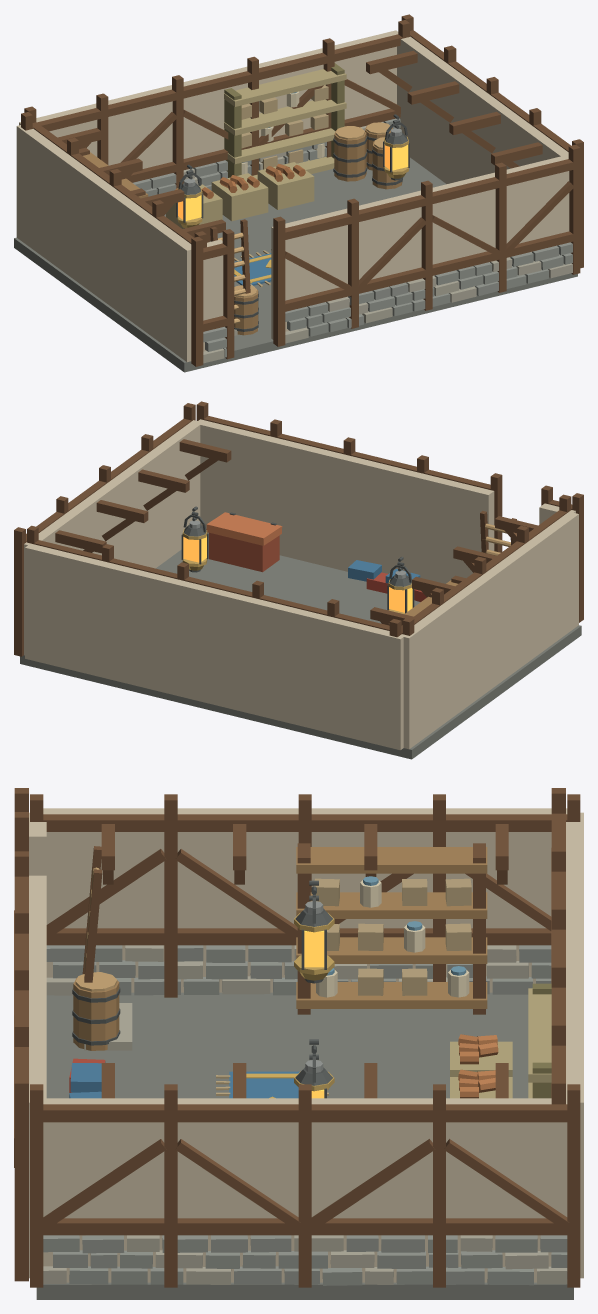
Rendered from holm_survival_workyard_cellar_v1.glb.
3 renders of one model, top to bottom at view 1: azimuth 30°, elevation 25°; view 2: azimuth 150°, elevation 25°; view 3: azimuth 270°, elevation 25°, orthographic. The views are drawn at different scales.
Visible parts, largest first — view 1: CellarStatic_Workyard_Warm_Limewash, CellarStatic_Workyard_Oak_Dark, CellarStatic_Cellar_Flagstone, CellarFurnishing_Workyard_Willow, CellarStatic_Workyard_Fieldstone, CellarFurnishing_Workyard_Oak_Worn, CellarStatic_Workyard_Fieldstone_Light, CellarFurnishing_Workyard_Forged_Iron, CellarFurnishing_Workyard_Willow_Dark, CellarFurnishing_Workyard_Sackcloth, CellarFurnishing_Cellar_Lantern_Amber_Glass, CellarFurnishing_Cellar_Root_Vegetables (+5 smaller); view 2: CellarStatic_Workyard_Warm_Limewash, CellarStatic_Workyard_Oak_Dark, CellarStatic_Cellar_Flagstone, CellarChest_Workyard_Mahogany, CellarChest_Workyard_Mahogany_Light, CellarFurnishing_Workyard_Forged_Iron, CellarFurnishing_Cellar_Lantern_Amber_Glass, CellarFurnishing_Workyard_Rug_Blue; view 3: CellarStatic_Workyard_Warm_Limewash, CellarStatic_Workyard_Oak_Dark, CellarStatic_Cellar_Flagstone, CellarStatic_Workyard_Fieldstone, CellarFurnishing_Workyard_Oak_Worn, CellarStatic_Workyard_Fieldstone_Light, CellarFurnishing_Workyard_Sackcloth, CellarFurnishing_Workyard_Willow, CellarFurnishing_Workyard_Oak_Dark, CellarFurnishing_Workyard_Forged_Iron, CellarFurnishing_Workyard_Rug_Blue, CellarFurnishing_Workyard_Cream_Pottery (+6 smaller).
Part boxes in pixels (<box>): CellarStatic_Workyard_Warm_Limewash: <box>16,30,569,362</box>; CellarStatic_Workyard_Oak_Dark: <box>21,14,583,366</box>; CellarStatic_Cellar_Flagstone: <box>14,157,577,372</box>; CellarFurnishing_Workyard_Willow: <box>166,69,346,228</box>; CellarStatic_Workyard_Fieldstone: <box>133,118,572,357</box>; CellarFurnishing_Workyard_Oak_Worn: <box>83,126,402,335</box>; CellarStatic_Workyard_Fieldstone_Light: <box>183,122,572,363</box>; CellarFurnishing_Workyard_Forged_Iron: <box>176,114,409,331</box>; CellarFurnishing_Workyard_Willow_Dark: <box>224,63,344,177</box>; CellarFurnishing_Workyard_Sackcloth: <box>241,85,328,169</box>; CellarFurnishing_Cellar_Lantern_Amber_Glass: <box>178,144,408,220</box>; CellarFurnishing_Cellar_Root_Vegetables: <box>175,163,305,198</box>; CellarStatic_Workyard_Warm_Limewash: <box>24,419,578,750</box>; CellarStatic_Workyard_Oak_Dark: <box>14,401,583,656</box>; CellarStatic_Cellar_Flagstone: <box>20,538,581,759</box>; CellarChest_Workyard_Mahogany: <box>209,532,279,572</box>; CellarChest_Workyard_Mahogany_Light: <box>206,512,282,545</box>; CellarFurnishing_Workyard_Forged_Iron: <box>181,506,414,613</box>; CellarFurnishing_Cellar_Lantern_Amber_Glass: <box>183,536,412,612</box>; CellarFurnishing_Workyard_Rug_Blue: <box>348,560,420,583</box>; CellarStatic_Workyard_Warm_Limewash: <box>29,808,583,1282</box>; CellarStatic_Workyard_Oak_Dark: <box>14,788,580,1287</box>; CellarStatic_Cellar_Flagstone: <box>36,992,573,1299</box>; CellarStatic_Workyard_Fieldstone: <box>43,945,567,1285</box>; CellarFurnishing_Workyard_Oak_Worn: <box>73,847,487,1050</box>; CellarStatic_Workyard_Fieldstone_Light: <box>43,945,567,1284</box>; CellarFurnishing_Workyard_Sackcloth: <box>314,878,471,995</box>; CellarFurnishing_Workyard_Willow: <box>450,988,551,1098</box>; CellarFurnishing_Workyard_Oak_Dark: <box>297,843,485,1014</box>; CellarFurnishing_Workyard_Forged_Iron: <box>72,880,332,1098</box>; CellarFurnishing_Workyard_Rug_Blue: <box>69,1063,299,1098</box>; CellarFurnishing_Workyard_Cream_Pottery: <box>316,880,469,997</box>.
Bounding box in the file's own units: 12.13 × 3.93 × 9.55.
